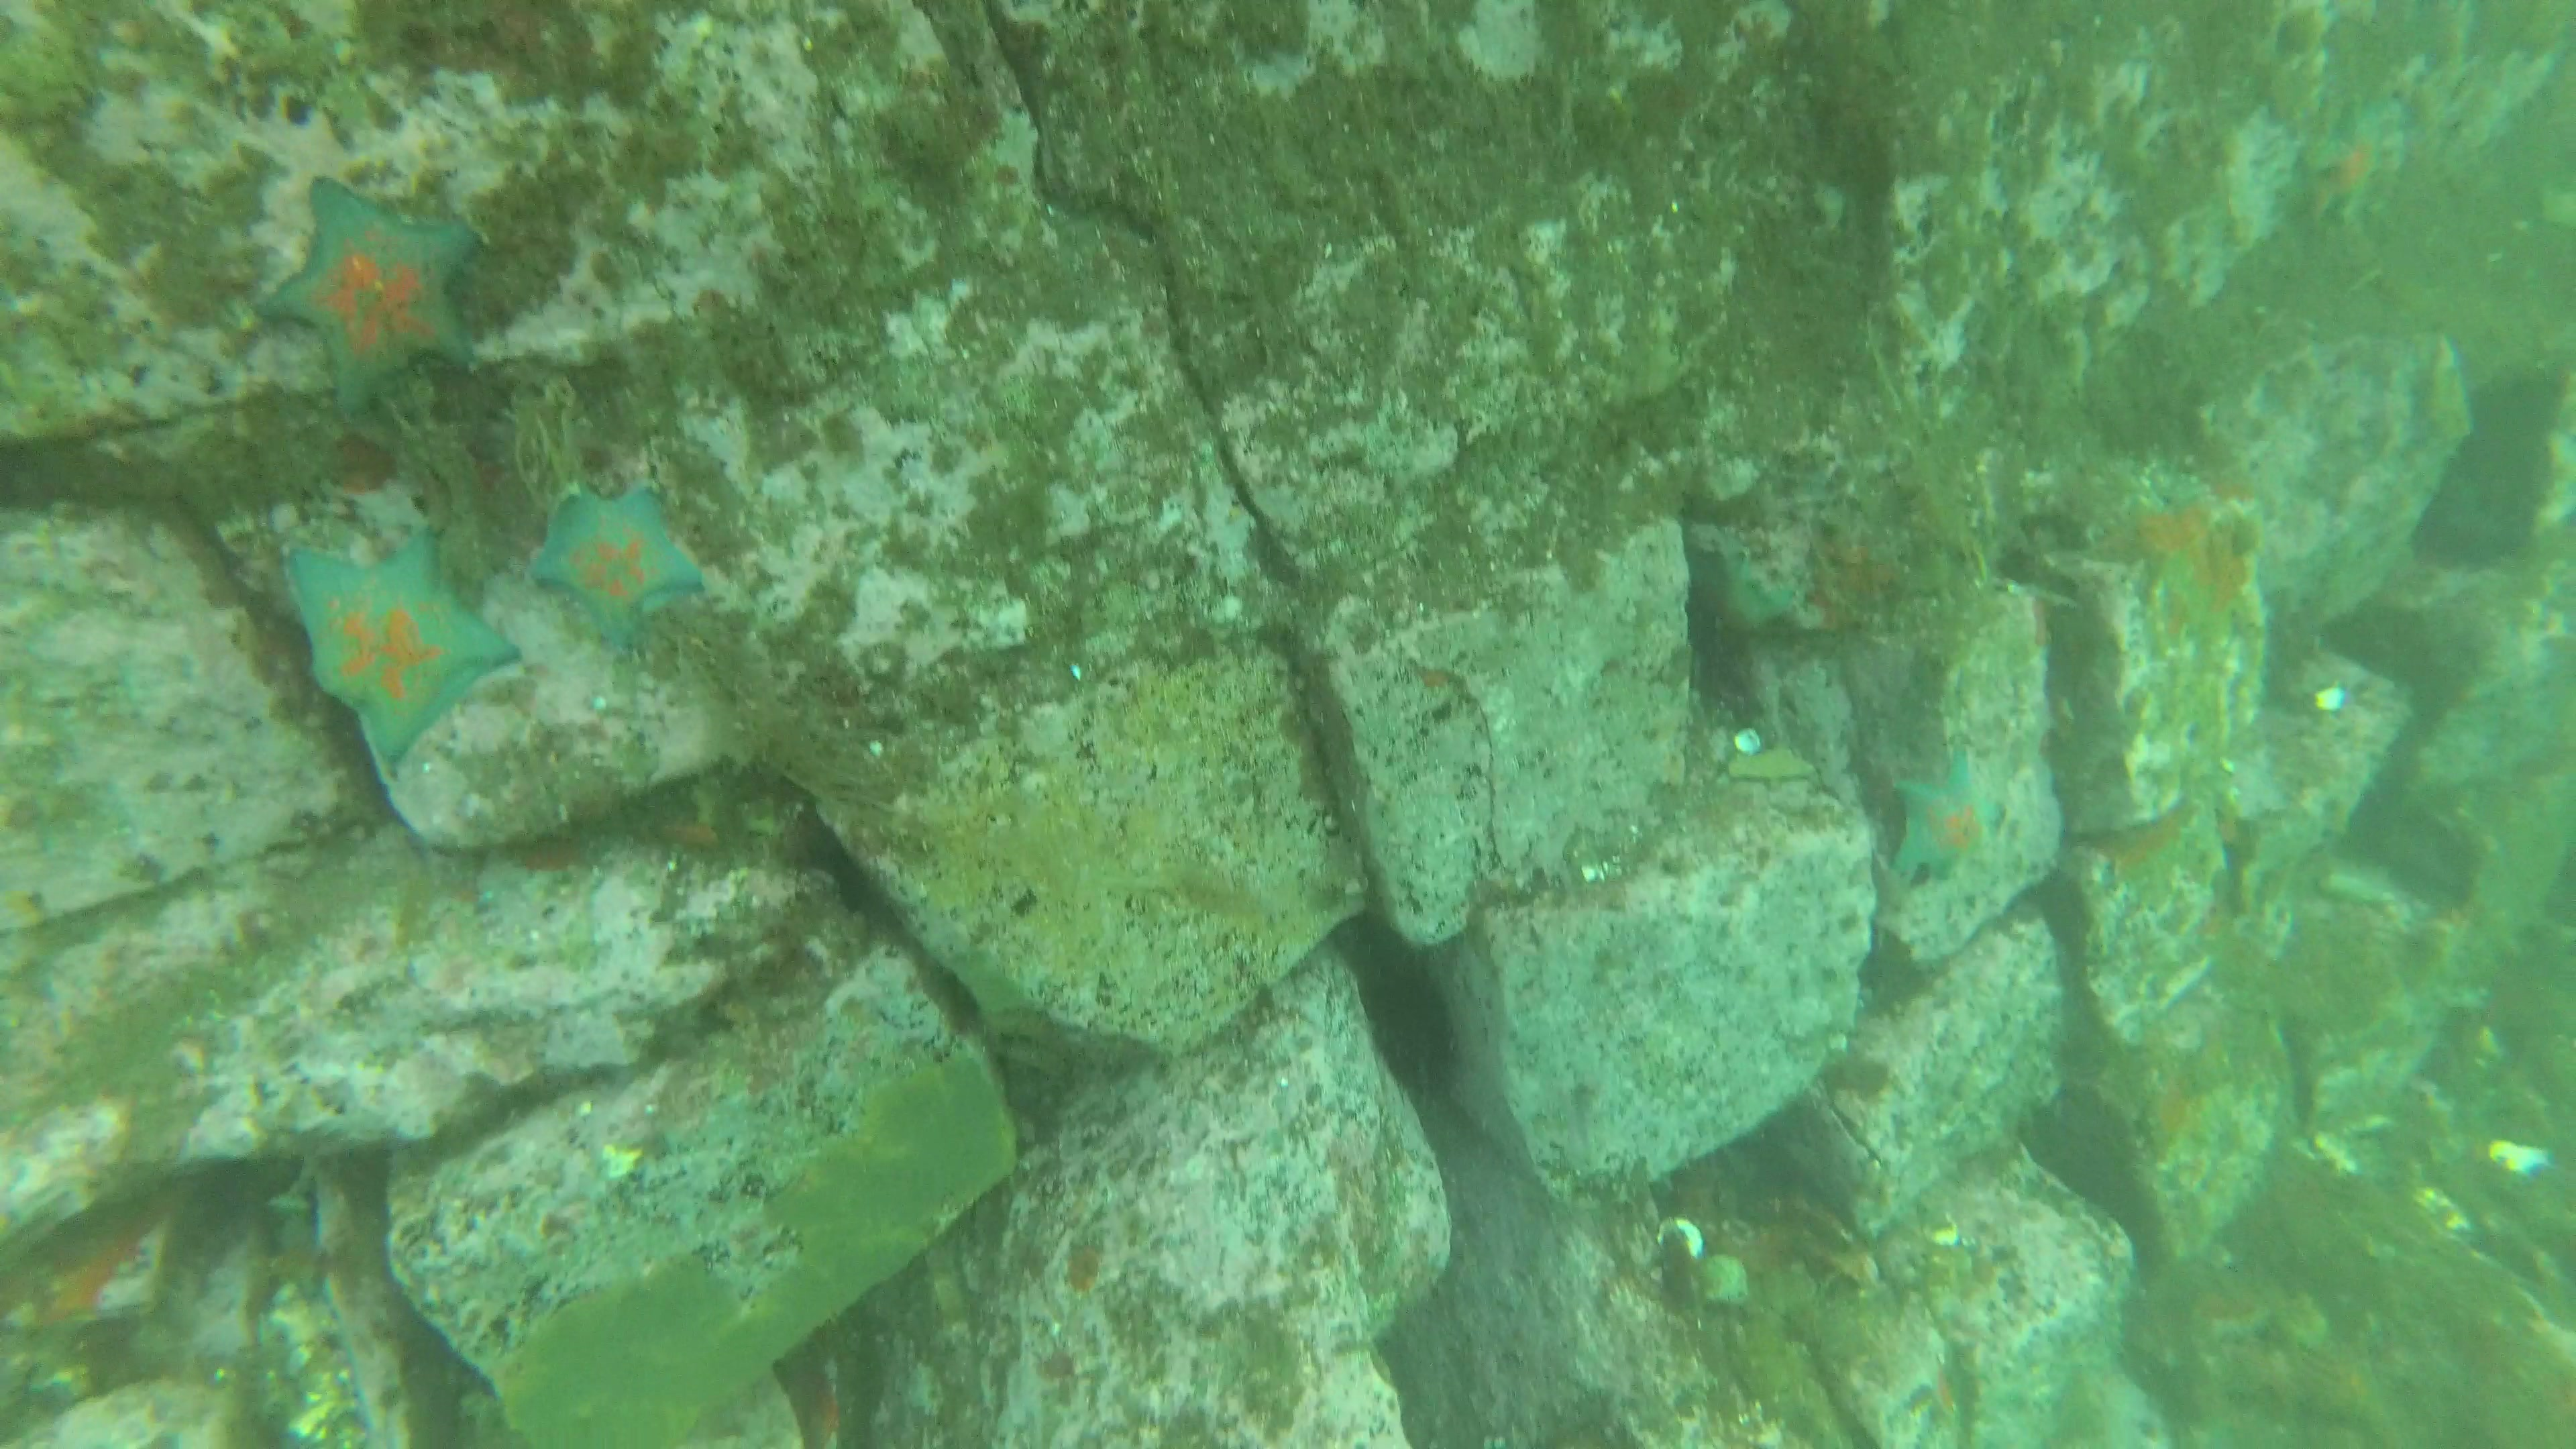starfish: (276, 536, 520, 777), (255, 177, 479, 396), (531, 488, 706, 640), (1895, 752, 2006, 885)
